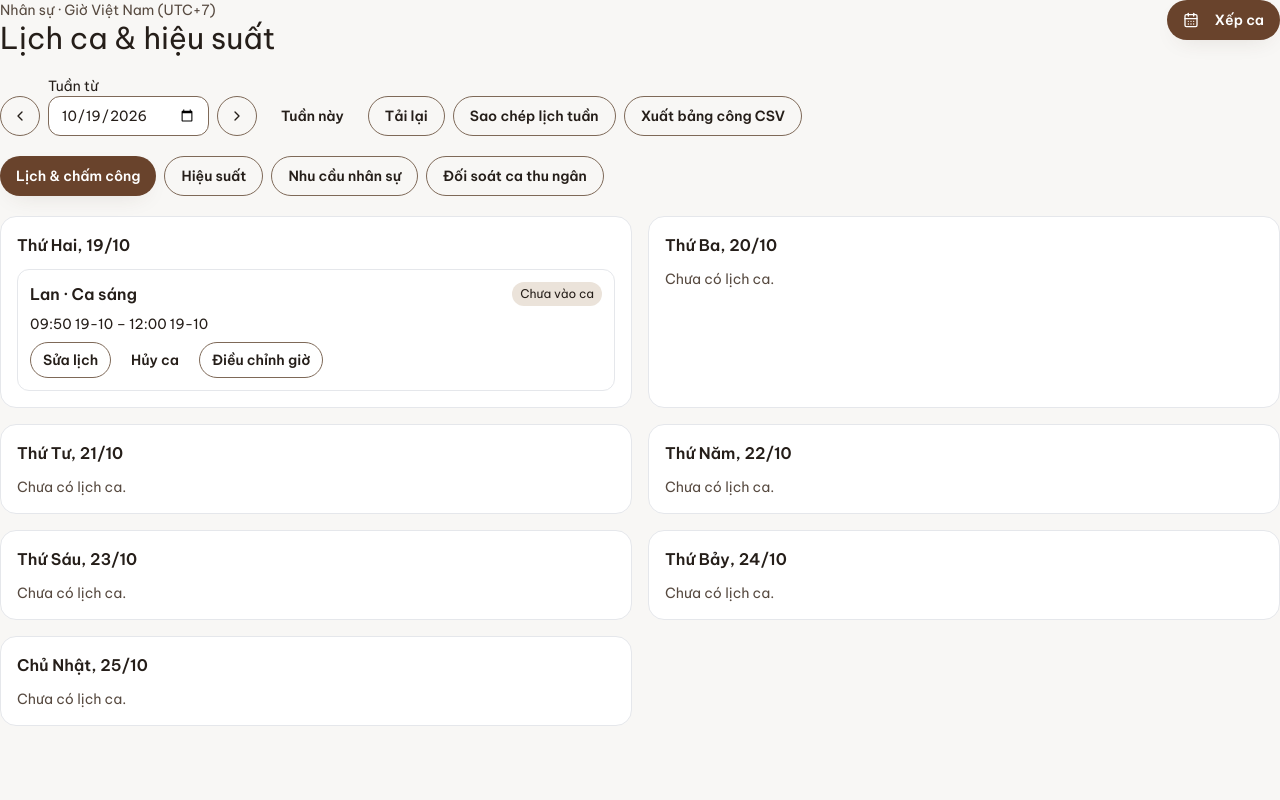
Test case: workforce UI › shows a newly saved shift immediately and navigates to its date when outside the viewed week
Expected: the heading "Lan · Ca sáng" is shown, [30,282,137,306]
Click the button "Xếp ca": (1223, 20) [1166,0,1279,40]
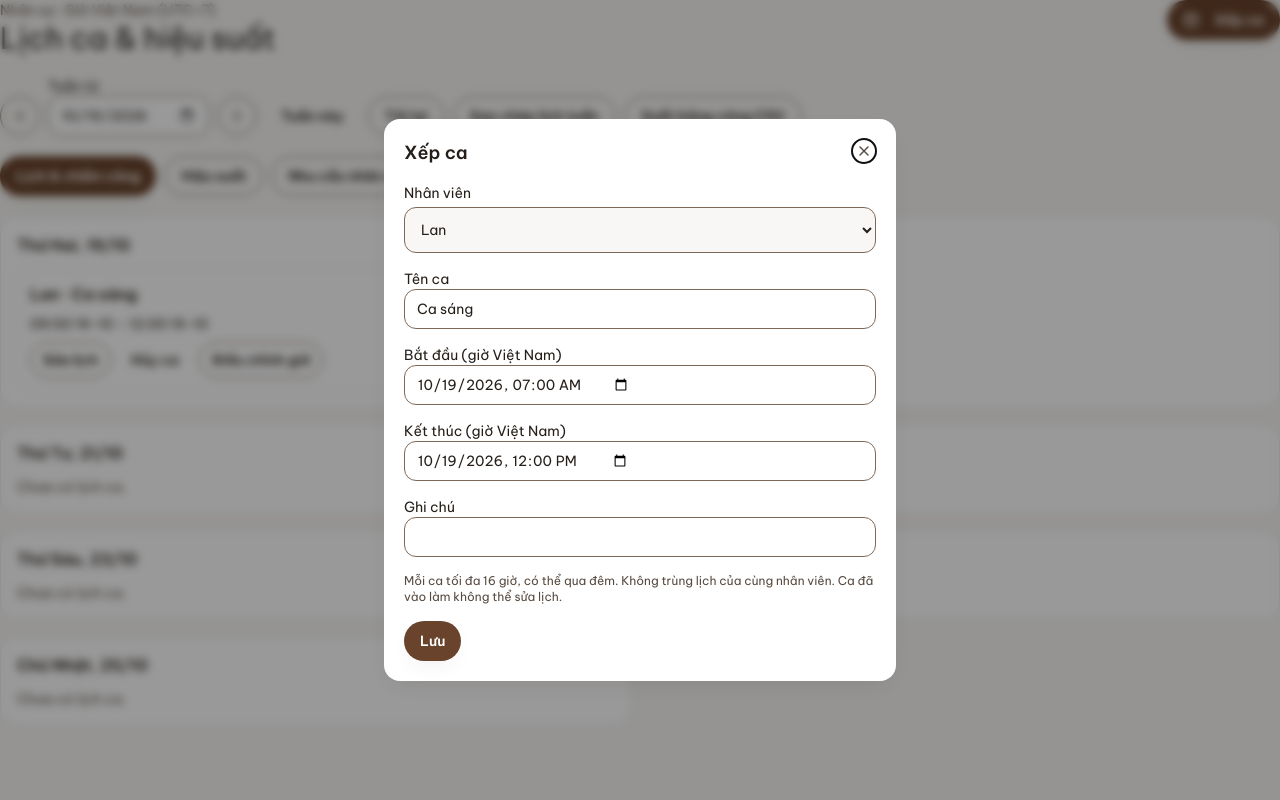
Click the button "Lưu": (433, 641) [404,621,461,661]
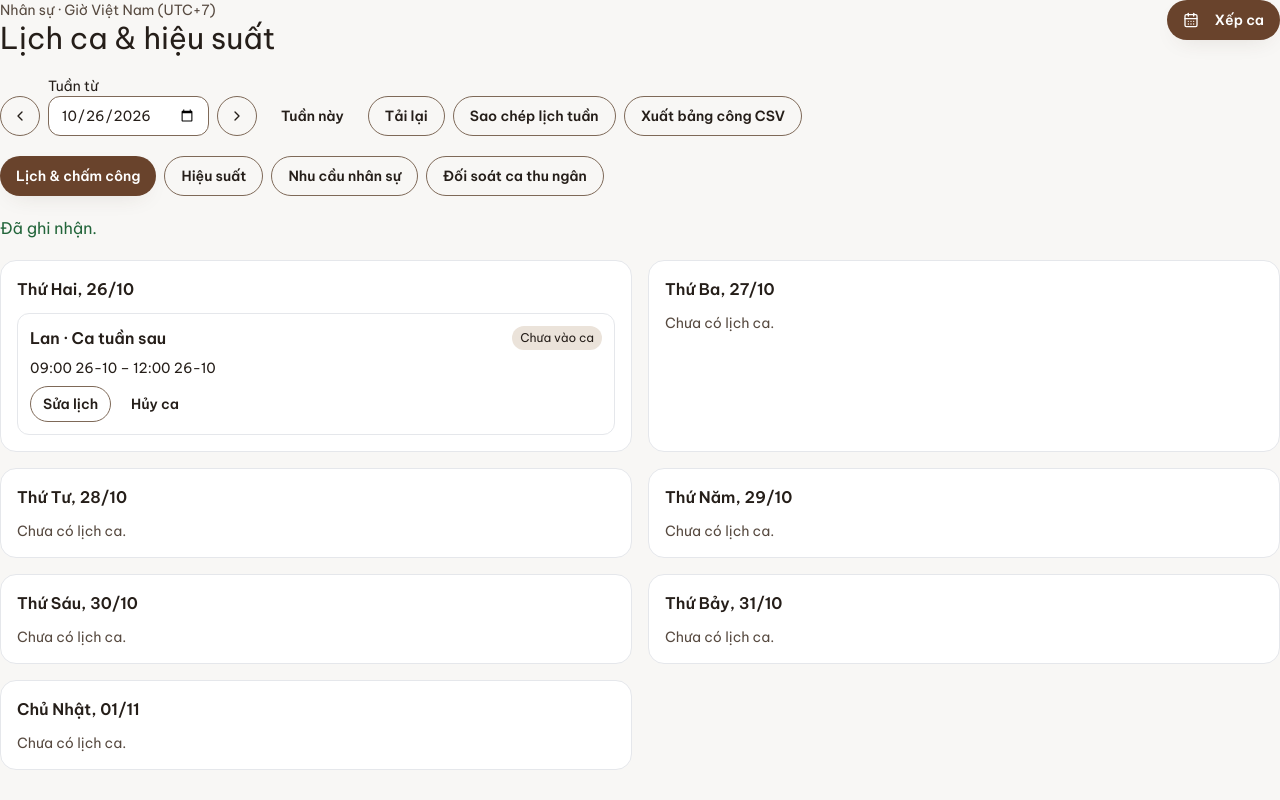
Result: the heading "Lan · Ca tuần sau" is shown at [30,326,166,350]
